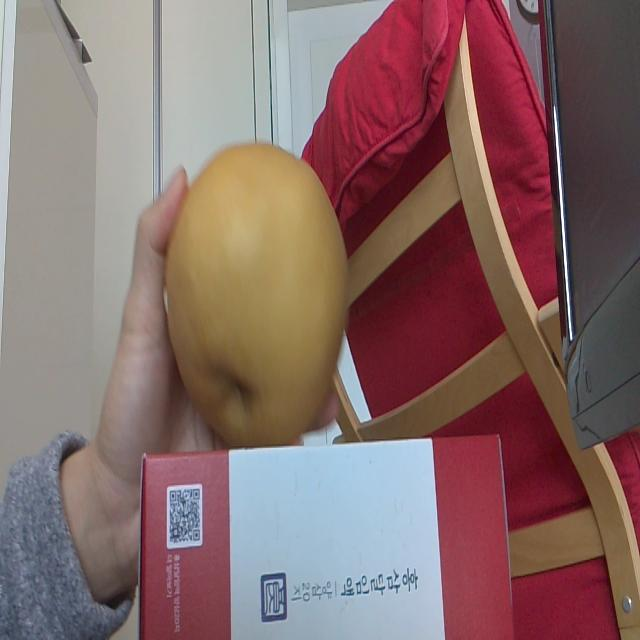pear: (168, 141, 350, 446)
